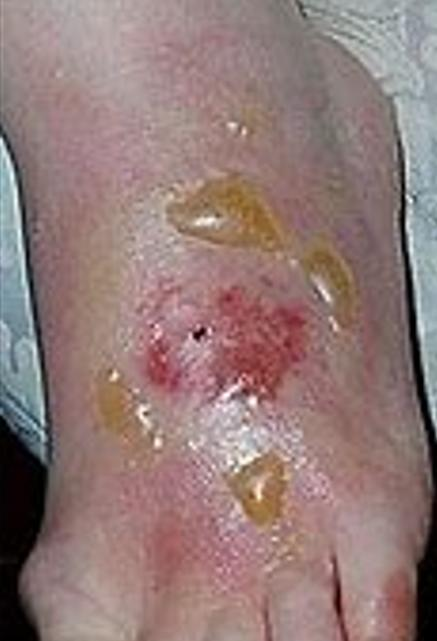Horse-Fly: (91, 153, 370, 541), (176, 166, 360, 299), (138, 284, 324, 404), (222, 439, 293, 529)
